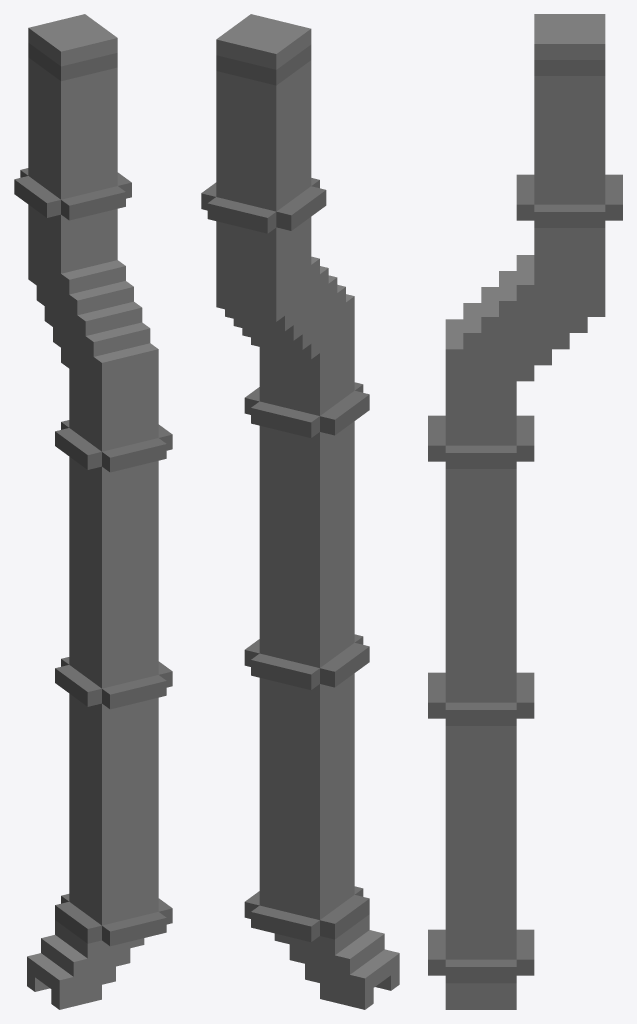
Rendered from pipe.glb.
3 renders of one model, left to right at view 1: azimuth 30°, elevation 25°; view 2: azimuth 150°, elevation 25°; view 3: azimuth 270°, elevation 25°, orthographic. The views are drawn at different scales.
Parts seen in each view (by area): view 1: ObjObject; view 2: ObjObject; view 3: ObjObject.
Boxes of the visible parts, <box> form: ObjObject: <box>14,14,172,1009</box>; ObjObject: <box>201,14,399,1009</box>; ObjObject: <box>428,14,622,1009</box>.
Size of the model in its own units: 0.8 by 6.2 by 1.1.
Materials: 1 (1 with a texture image).
